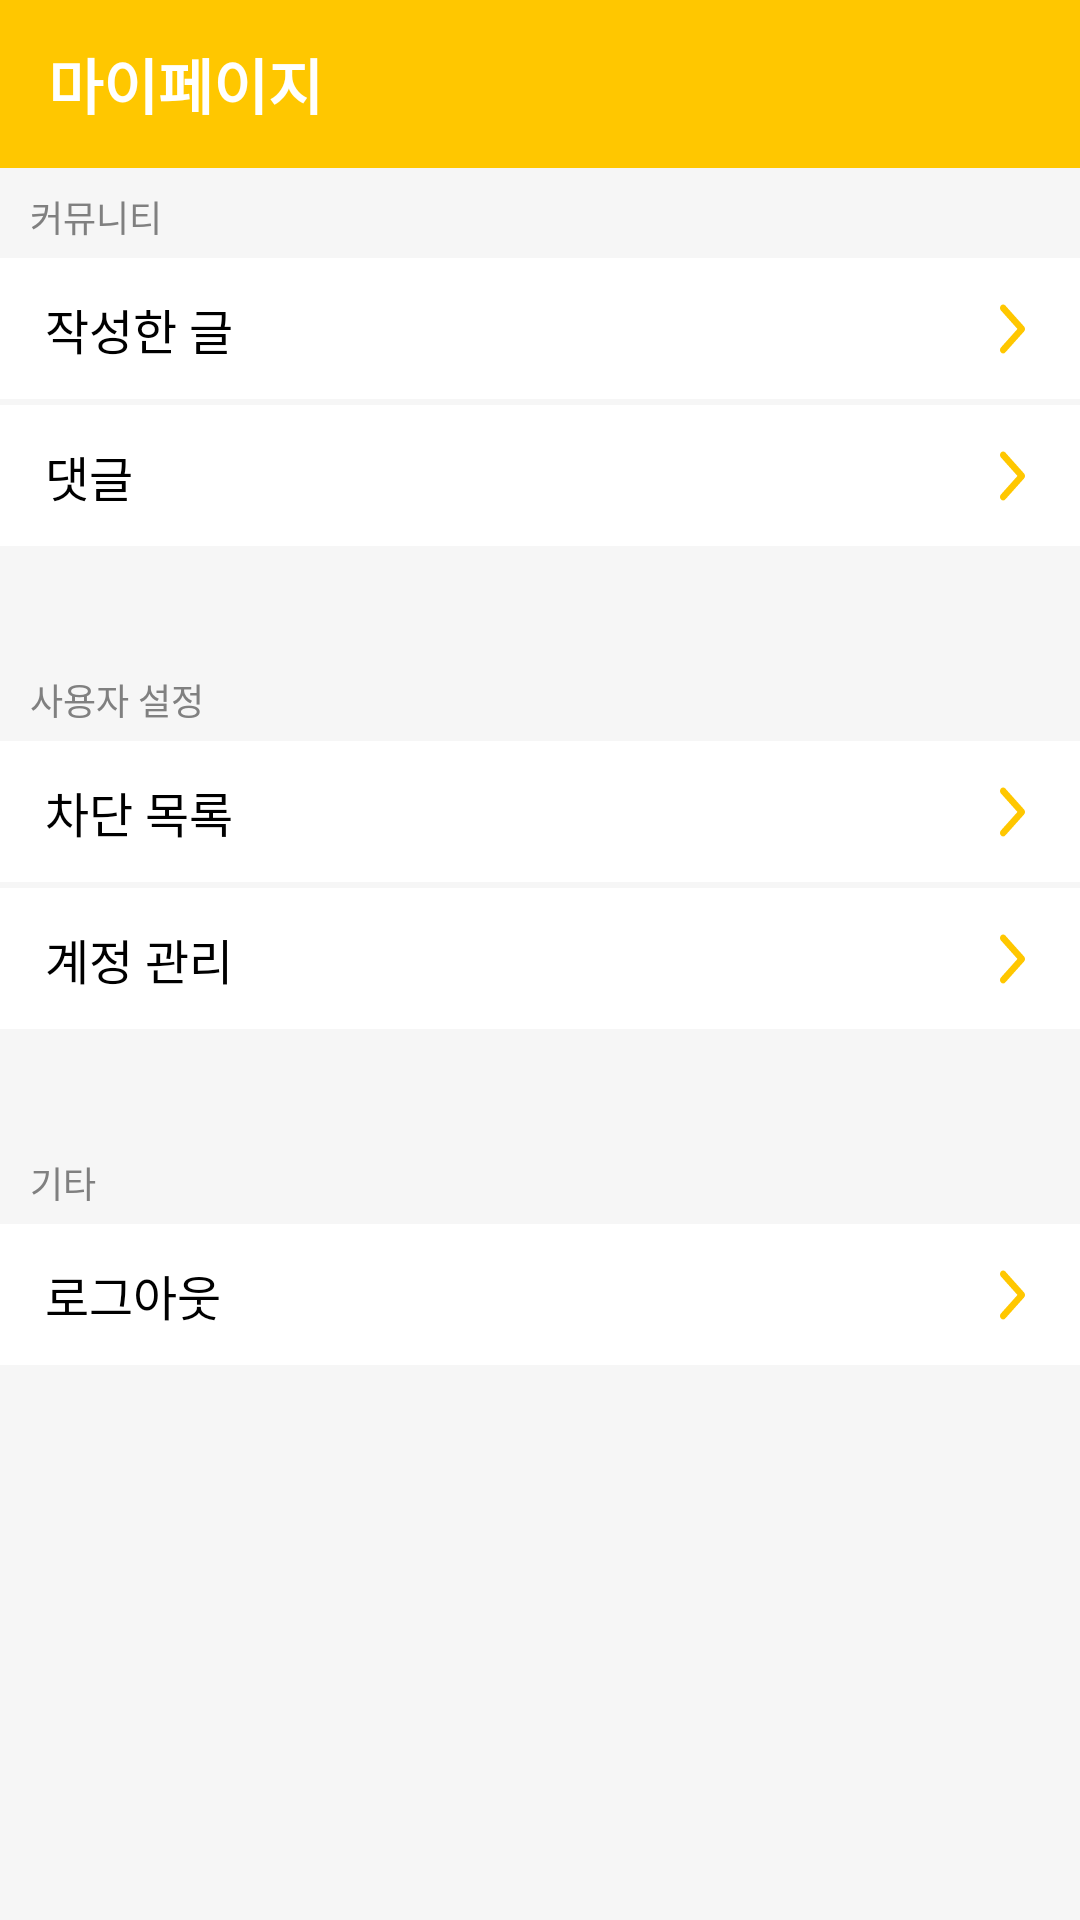

Icons on this 1080*1920 Android screen, each with its box as (x1, y1, x2, y2):
chevron right: (1000, 304, 1025, 354), (1000, 451, 1025, 501), (1000, 787, 1025, 837), (1000, 934, 1025, 984), (1000, 1270, 1025, 1320)
